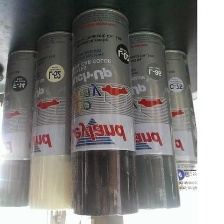aerosol_cans: (67, 4, 140, 221), (105, 28, 183, 214), (21, 28, 98, 215), (143, 47, 203, 214), (0, 46, 58, 210)
